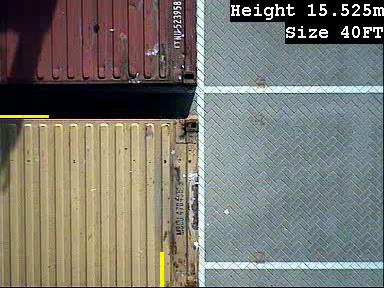groundmarker_2: (174, 186, 243, 239)
